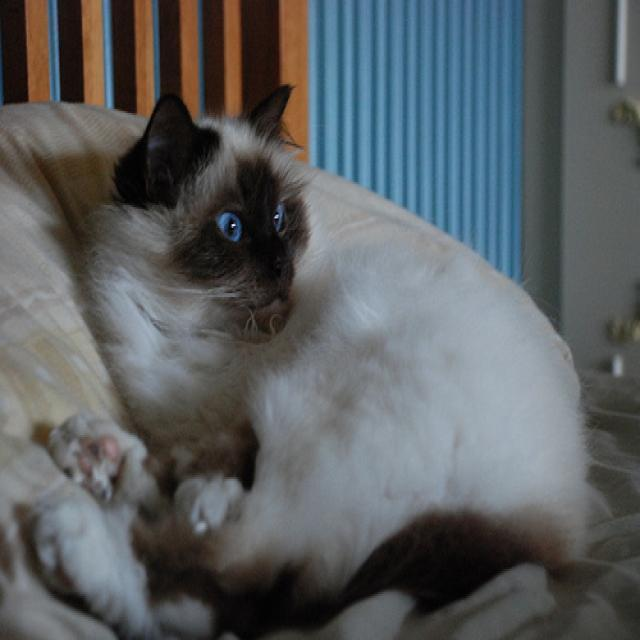Birman: (108, 62, 323, 348)
